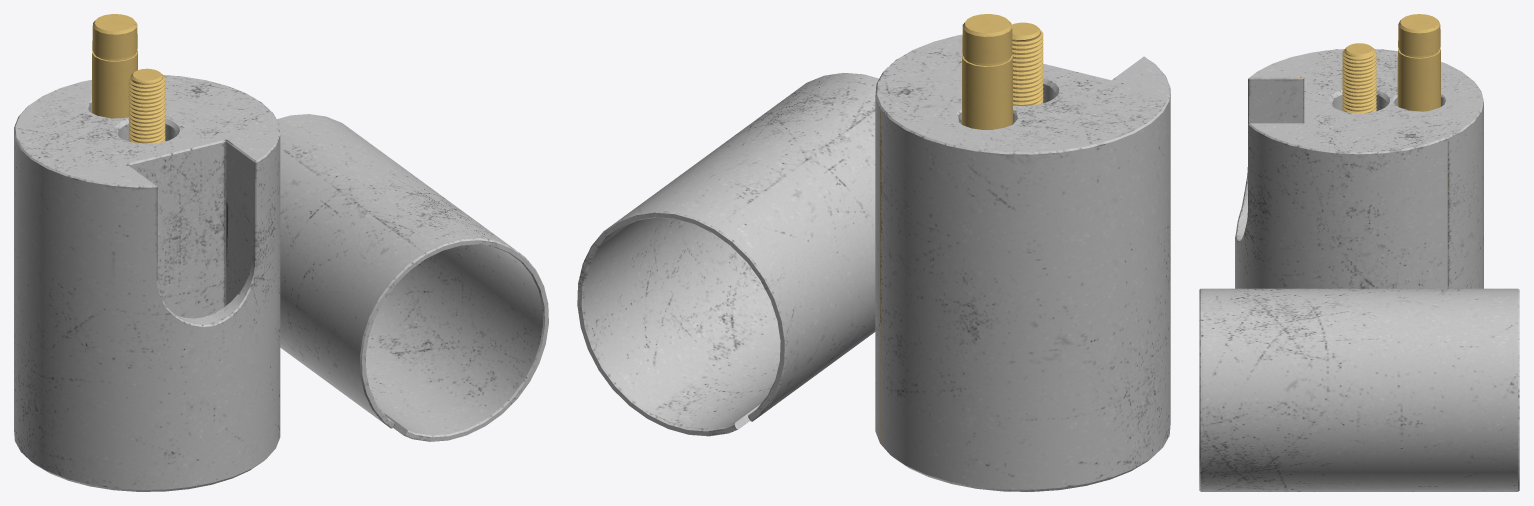
Rendered from skep.glb.
The picture shows the model from 3 angles, left to right: view 1: azimuth 30°, elevation 25°; view 2: azimuth 150°, elevation 25°; view 3: azimuth 270°, elevation 25°; orthographic projection. The views are drawn at different scales.
Parts seen in each view (by area): view 1: throttleValveSkep; view 2: throttleValveSkep; view 3: throttleValveSkep.
Boxes of the visible parts, x1,y1,x2,y2 form: throttleValveSkep: (14,14,548,491); throttleValveSkep: (577,14,1170,491); throttleValveSkep: (1199,14,1519,491).
Size of the model in its own units: 2.04 by 1.77 by 1.4.
Materials: 1 (1 with a texture image).
